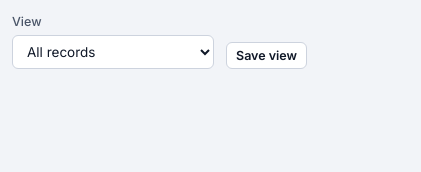
SavedViewsBar › does not offer delete for a shared view owned by someone else
Select "Team view (shared view)" in the dropdown at (113,52), box [12,35,214,69]
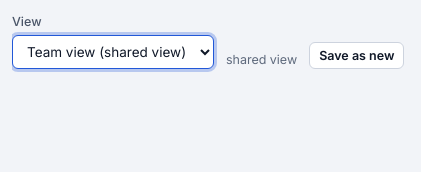
Expected: the text "shared view" is shown, [226,50,297,69]
